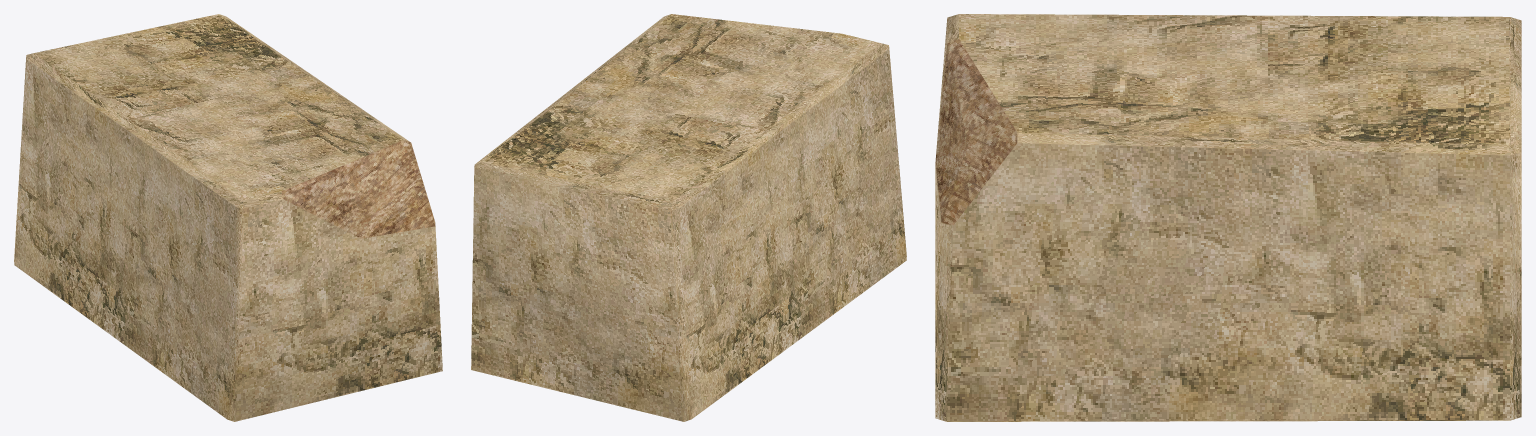
Rendered from stage-ruin-p2-498.glb.
The picture shows the model from 3 angles, left to right: view 1: azimuth 30°, elevation 25°; view 2: azimuth 150°, elevation 25°; view 3: azimuth 270°, elevation 25°; orthographic projection. The views are drawn at different scales.
Size of the model in its own units: 4.49 by 4.25 by 7.9.
2 materials, 2 textured.
